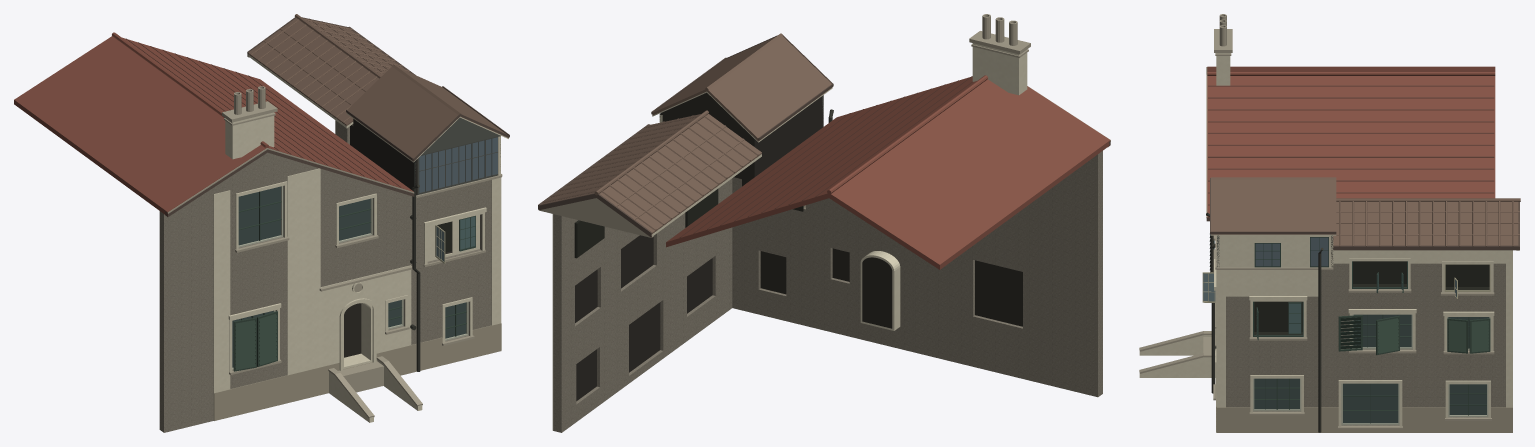
Rendered from xuhui-yanqing-159-garden-residence-lod.glb.
The picture shows the model from 3 angles, left to right: view 1: azimuth 30°, elevation 25°; view 2: azimuth 150°, elevation 25°; view 3: azimuth 270°, elevation 25°; orthographic projection. The views are drawn at different scales.
Visible parts, largest first — view 1: 延庆路159号住宅庭院拱门与临街转角; view 2: 延庆路159号住宅庭院拱门与临街转角; view 3: 延庆路159号住宅庭院拱门与临街转角.
Boxes of the visible parts, x1=… form: 延庆路159号住宅庭院拱门与临街转角: x1=14, y1=14, x2=509, y2=432; 延庆路159号住宅庭院拱门与临街转角: x1=538, y1=14, x2=1110, y2=432; 延庆路159号住宅庭院拱门与临街转角: x1=1139, y1=14, x2=1520, y2=432.
Bounding box in the file's own units: 13.16 × 11.38 × 13.17.
22 materials, 2 textured.
